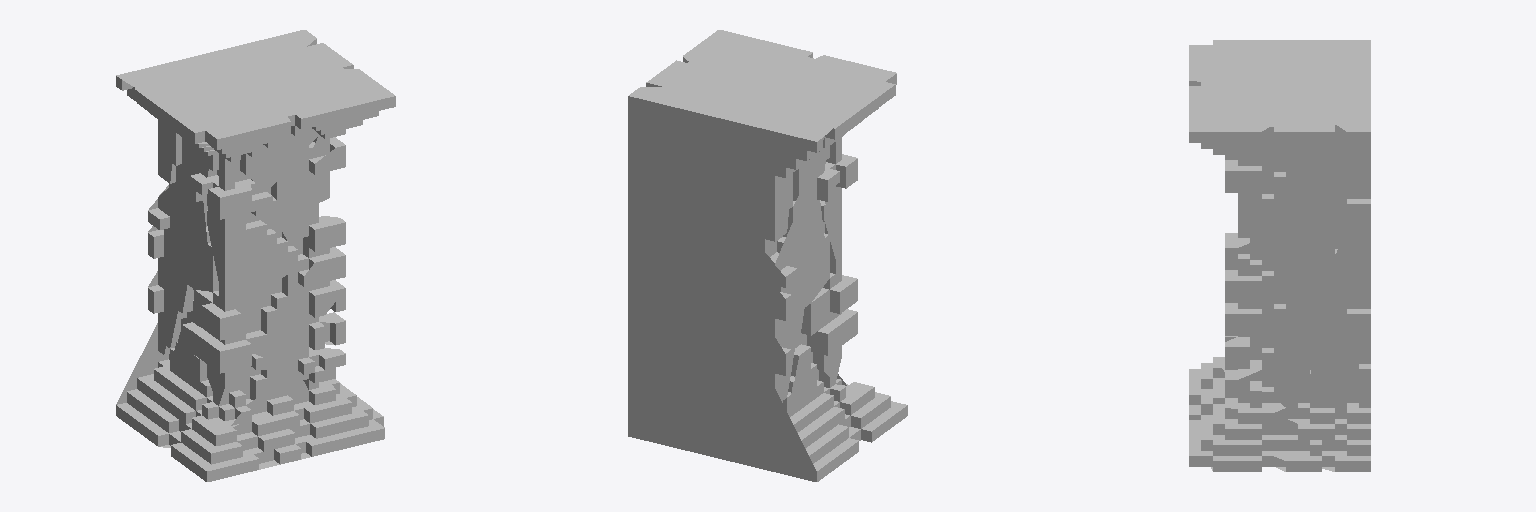
The model's file is Pillar_Ext_Smooth_Cracked.obj.
3 views of the same model, side by side, from view 1: azimuth 30°, elevation 25°; view 2: azimuth 150°, elevation 25°; view 3: azimuth 270°, elevation 25° (orthographic).
Parts seen in each view (by area): view 1: Pillar_Ext_Smooth_Cracked_Pillar_Ext_Smooth_Cracked.001; view 2: Pillar_Ext_Smooth_Cracked_Pillar_Ext_Smooth_Cracked.001; view 3: Pillar_Ext_Smooth_Cracked_Pillar_Ext_Smooth_Cracked.001.
Part boxes in pixels (x1,y1,x2,y2): Pillar_Ext_Smooth_Cracked_Pillar_Ext_Smooth_Cracked.001: (116,30,395,481); Pillar_Ext_Smooth_Cracked_Pillar_Ext_Smooth_Cracked.001: (628,30,907,481); Pillar_Ext_Smooth_Cracked_Pillar_Ext_Smooth_Cracked.001: (1189,40,1370,471).
Size of the model in its own units: 1.8 by 3.1 by 1.5.